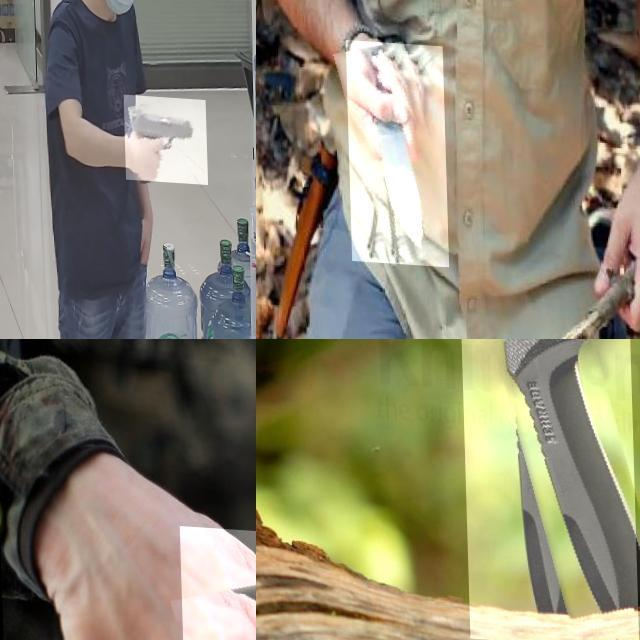-: (453, 339, 635, 640), (344, 37, 446, 263)
gun-knife-thesis - v11 Yolov5 augmented: (122, 90, 206, 178)
